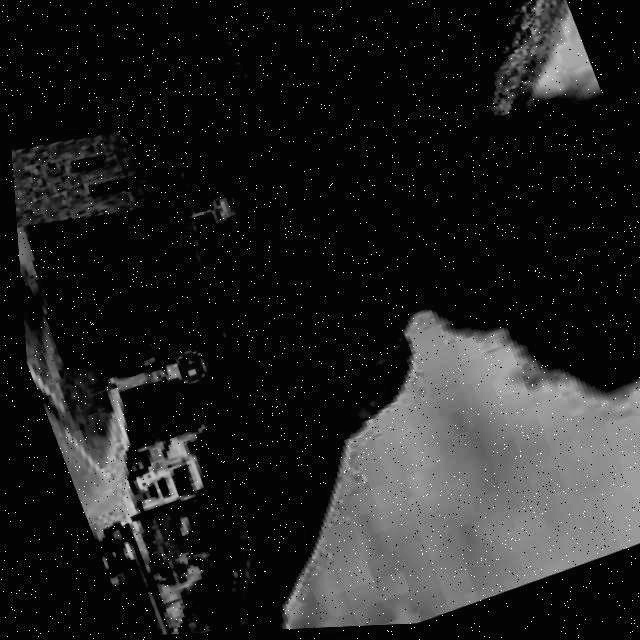Smoke: (248, 33, 640, 514)
